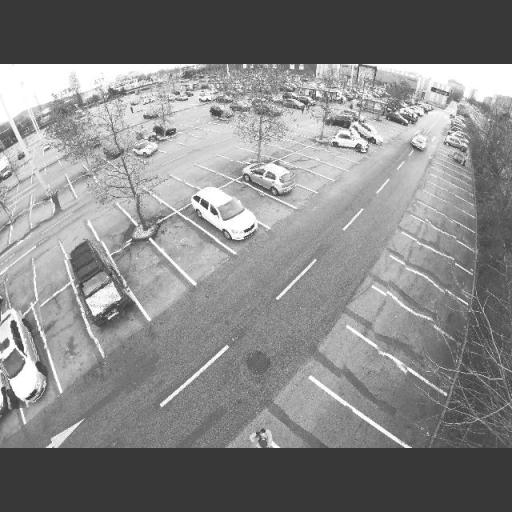busy: (74, 241, 129, 340), (0, 302, 51, 408), (187, 188, 258, 241), (242, 161, 297, 196), (329, 130, 369, 155), (350, 122, 388, 145), (130, 140, 160, 160), (100, 140, 126, 160), (324, 113, 353, 129), (253, 102, 283, 116), (443, 136, 469, 152), (206, 106, 232, 121), (408, 134, 428, 151), (386, 112, 411, 125), (154, 124, 176, 138), (142, 110, 158, 120)
free: (340, 356, 406, 401), (373, 314, 437, 354), (289, 407, 354, 443), (386, 273, 446, 309), (45, 315, 86, 354), (123, 256, 170, 286), (404, 249, 455, 276), (56, 225, 94, 260), (162, 229, 204, 256), (416, 228, 458, 252), (2, 277, 35, 307), (94, 209, 132, 234), (32, 264, 66, 291), (28, 199, 55, 227), (10, 210, 32, 240), (74, 170, 97, 198), (54, 184, 76, 212), (232, 189, 264, 208), (132, 196, 160, 216), (156, 182, 186, 199), (424, 213, 453, 230), (188, 172, 215, 184), (214, 160, 237, 173), (435, 200, 455, 214), (290, 171, 312, 183), (320, 147, 341, 159), (259, 145, 280, 157), (230, 151, 252, 161), (314, 152, 334, 162), (158, 142, 176, 152), (174, 134, 190, 144), (302, 161, 320, 169), (444, 183, 458, 193), (281, 137, 293, 148), (188, 130, 204, 138), (443, 192, 455, 202), (449, 178, 458, 184)
